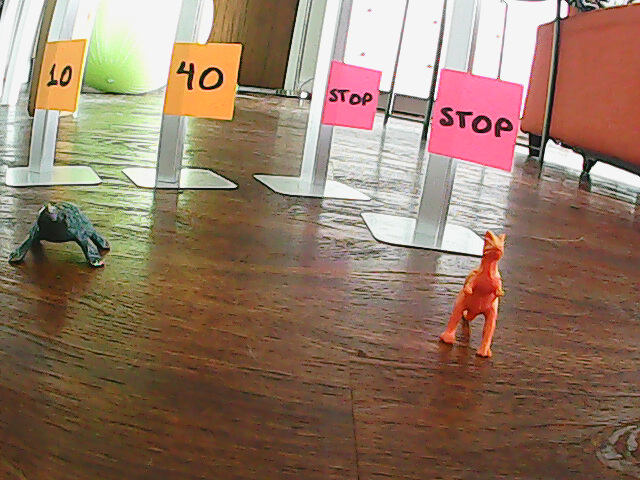10: (40, 45, 80, 109)
40: (172, 44, 237, 116)
dinosaur: (434, 224, 512, 371)
stop: (433, 82, 514, 154), (327, 70, 378, 121)
turtle: (4, 198, 112, 270)
